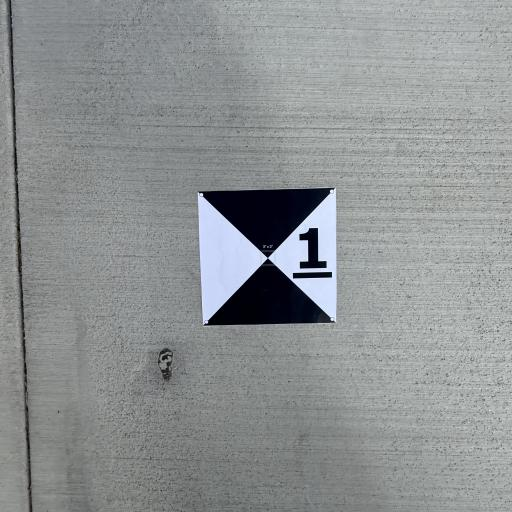target1: (190, 183, 348, 341)
